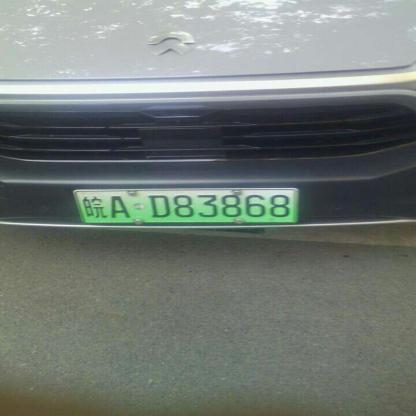lp: (72, 189, 297, 223)
